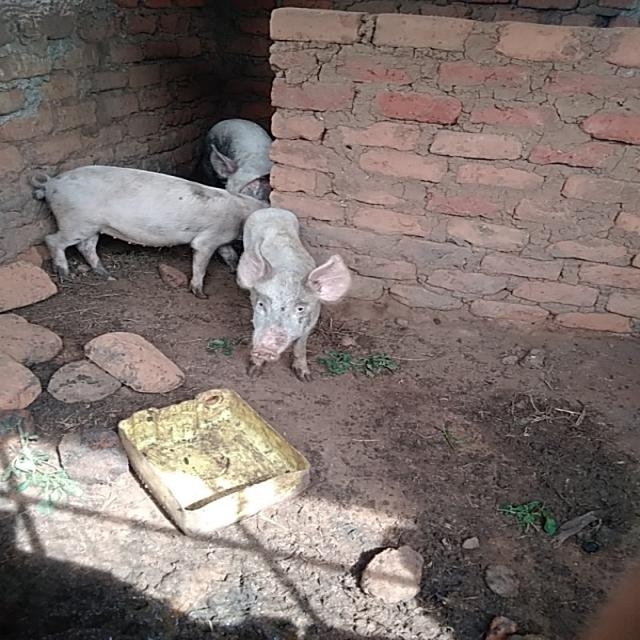pig: (210, 158, 372, 399)
